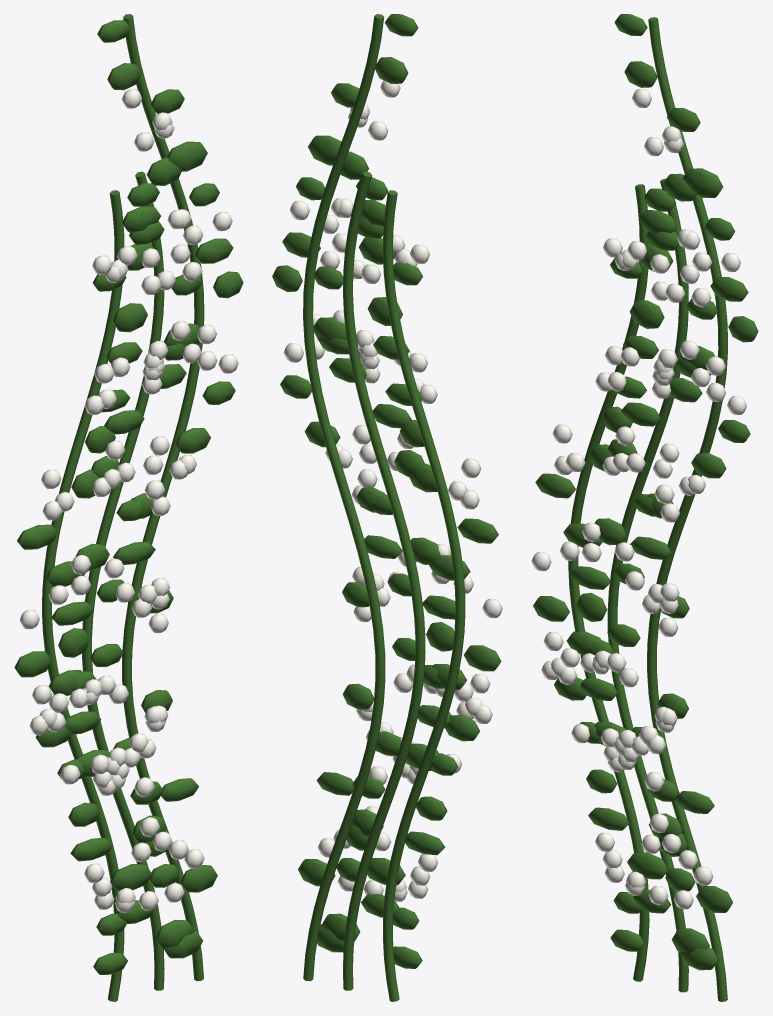
The model's file is Rempart_Lierre.fbx.
The picture shows the model from 3 angles, left to right: view 1: azimuth 30°, elevation 25°; view 2: azimuth 150°, elevation 25°; view 3: azimuth 330°, elevation 25°; orthographic projection.
Visible parts, largest first — view 1: Lierre_Feuilles, Lierre_Fleurs; view 2: Lierre_Feuilles, Lierre_Fleurs; view 3: Lierre_Feuilles, Lierre_Fleurs.
Boxes of the visible parts, x1,y1,x2,y2 form: Lierre_Feuilles: (14, 14, 243, 1001); Lierre_Fleurs: (19, 89, 238, 912); Lierre_Feuilles: (272, 14, 501, 1001); Lierre_Fleurs: (283, 80, 502, 901); Lierre_Feuilles: (533, 14, 758, 1001); Lierre_Fleurs: (531, 89, 746, 909).
Bounding box in the file's own units: 3.12 × 12.95 × 0.34.
